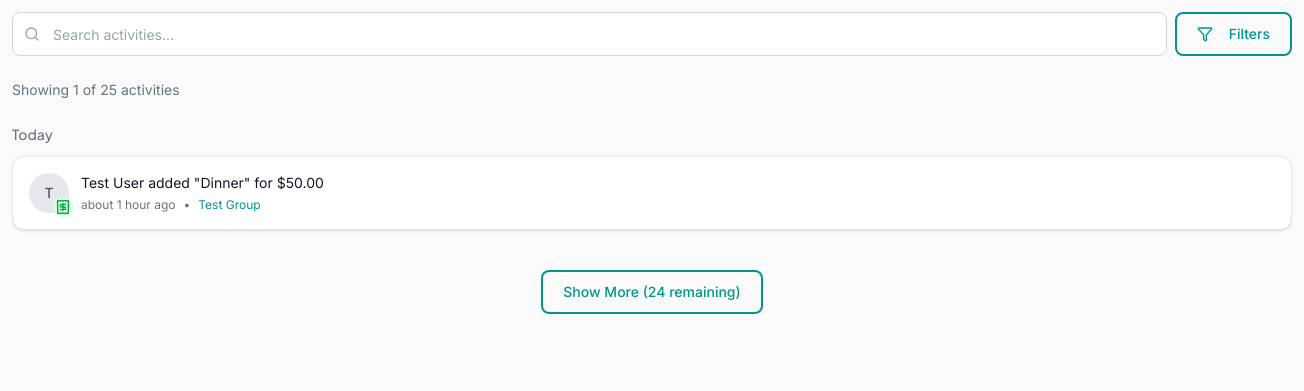
Test: ActivityPageClient › appends activities when loading more
Expected: the text "Test User added \"Dinner\" for $50.00" is shown, [81, 174, 324, 191]
Click the button "Show More (24 remaining)" at (652, 292), box [541, 270, 763, 314]
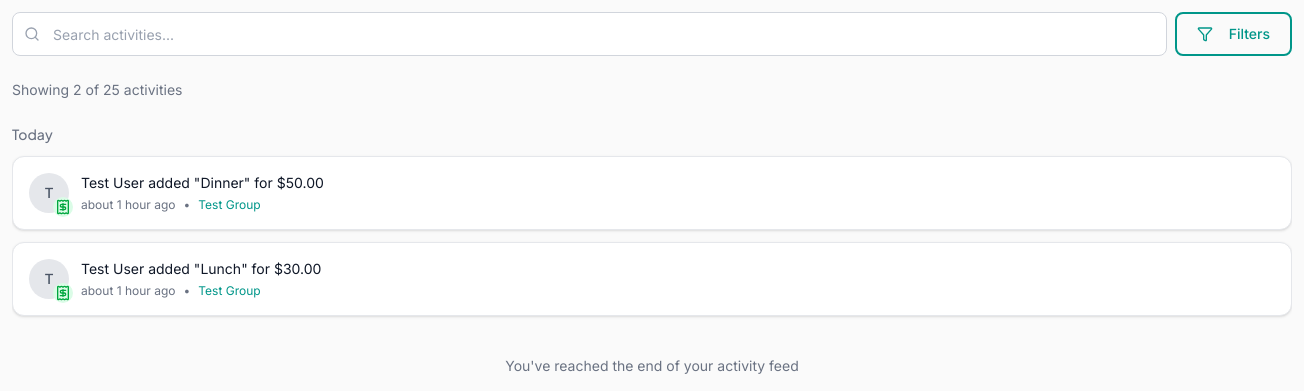
Expected: the text "Test User added \"Dinner\" for $50.00" is shown, [81, 174, 324, 191]
Now the text "Test User added \"Lunch\" for $30.00" is shown, box [81, 260, 321, 277]
